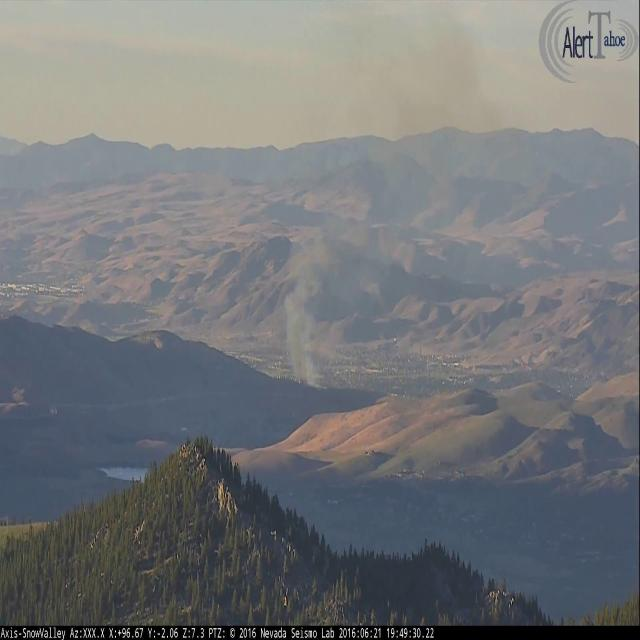smoke: (283, 0, 490, 389)
